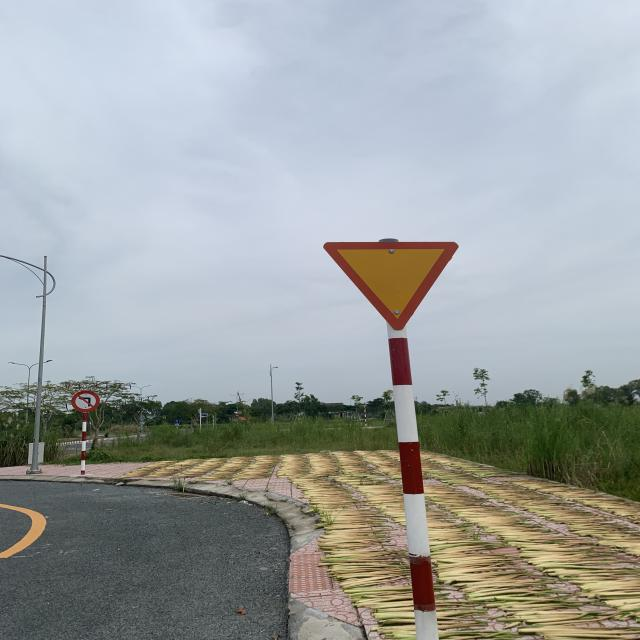Cam_Re_Trai: (71, 390, 100, 412)
Gioi_Han_Toc_Do_25: (324, 240, 459, 331)
